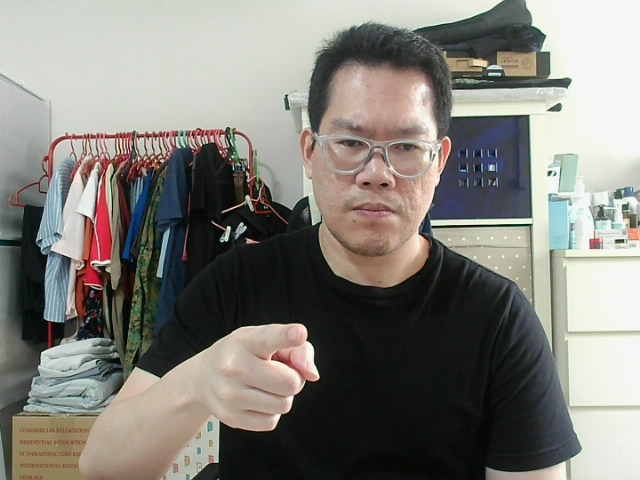you: (199, 334, 307, 421)
